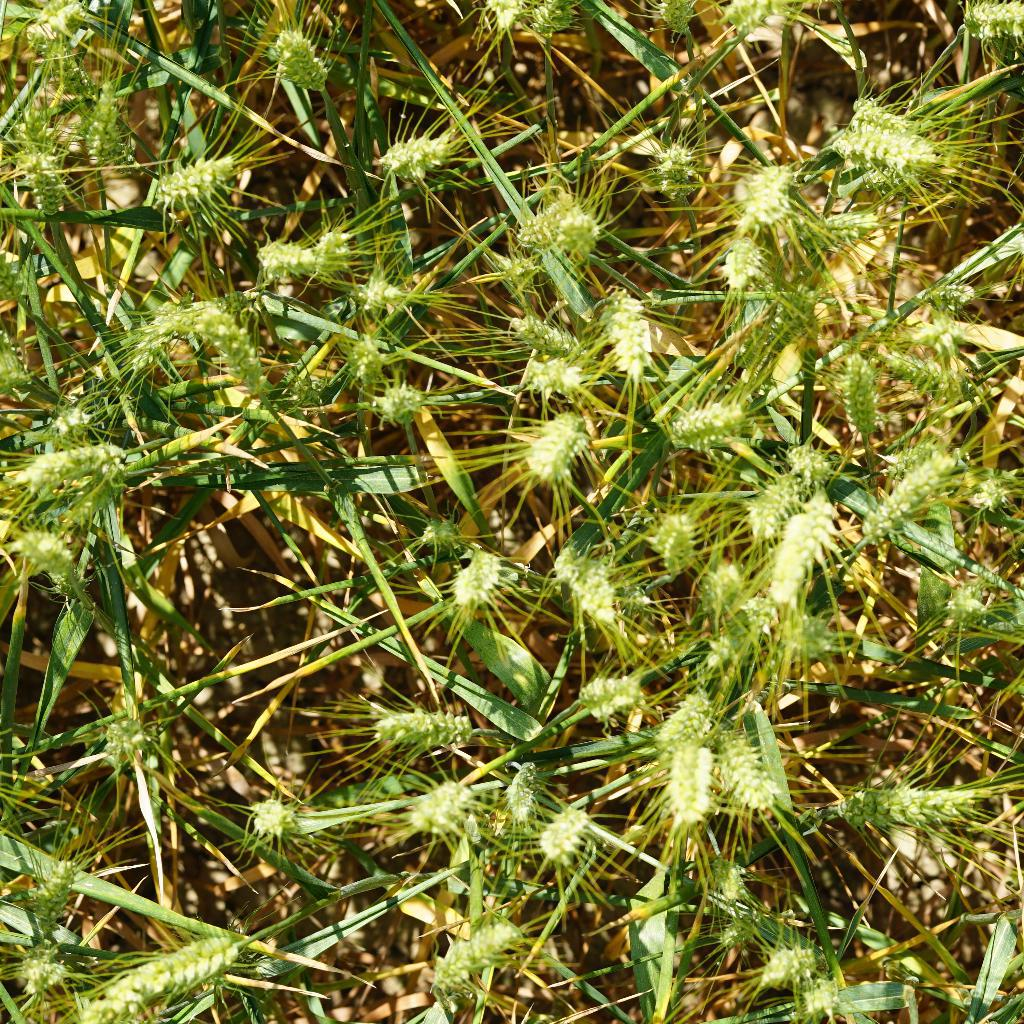0-0: (82, 918, 243, 1005), (735, 482, 845, 605), (852, 443, 965, 545), (832, 765, 983, 838), (825, 89, 940, 179), (727, 276, 826, 379), (141, 281, 271, 348), (515, 174, 609, 266), (6, 437, 139, 499), (414, 918, 522, 994), (707, 725, 792, 821), (867, 335, 974, 408), (127, 153, 256, 212), (239, 224, 362, 284), (832, 94, 935, 164), (549, 545, 632, 630), (363, 686, 475, 748), (122, 293, 198, 381), (518, 400, 595, 486), (209, 313, 280, 406), (492, 301, 589, 367), (587, 298, 657, 382), (662, 729, 718, 830), (254, 26, 332, 97), (402, 765, 481, 834), (641, 683, 724, 746), (26, 849, 86, 935), (666, 396, 758, 451), (721, 470, 799, 534), (792, 201, 881, 257), (574, 664, 657, 724), (370, 123, 453, 182), (90, 701, 160, 768), (632, 512, 706, 575), (77, 85, 131, 171), (15, 520, 92, 580), (636, 134, 703, 202), (530, 796, 591, 870), (724, 598, 792, 664), (731, 163, 800, 227), (918, 265, 994, 321), (693, 609, 758, 674), (833, 348, 882, 434), (440, 537, 501, 606), (26, 142, 75, 227), (0, 247, 55, 322), (776, 608, 844, 668), (746, 938, 829, 987), (511, 352, 595, 399), (964, 458, 1023, 524), (361, 380, 432, 433), (942, 568, 996, 636), (242, 787, 298, 851), (17, 952, 78, 1009), (14, 88, 67, 153), (473, 243, 541, 292), (336, 272, 411, 316), (858, 155, 935, 196), (714, 236, 763, 299), (787, 444, 843, 499), (690, 559, 744, 615), (332, 332, 393, 380), (702, 856, 758, 908), (953, 0, 1024, 41), (705, 0, 789, 34), (709, 910, 771, 956), (0, 336, 51, 391), (500, 761, 544, 823), (796, 971, 847, 1024), (400, 511, 463, 553), (33, 0, 98, 40), (279, 361, 328, 413), (646, 0, 702, 41), (530, 0, 580, 44), (474, 0, 533, 37), (63, 1000, 134, 1024), (1001, 598, 1024, 669), (1004, 198, 1024, 266), (1014, 113, 1024, 159)
